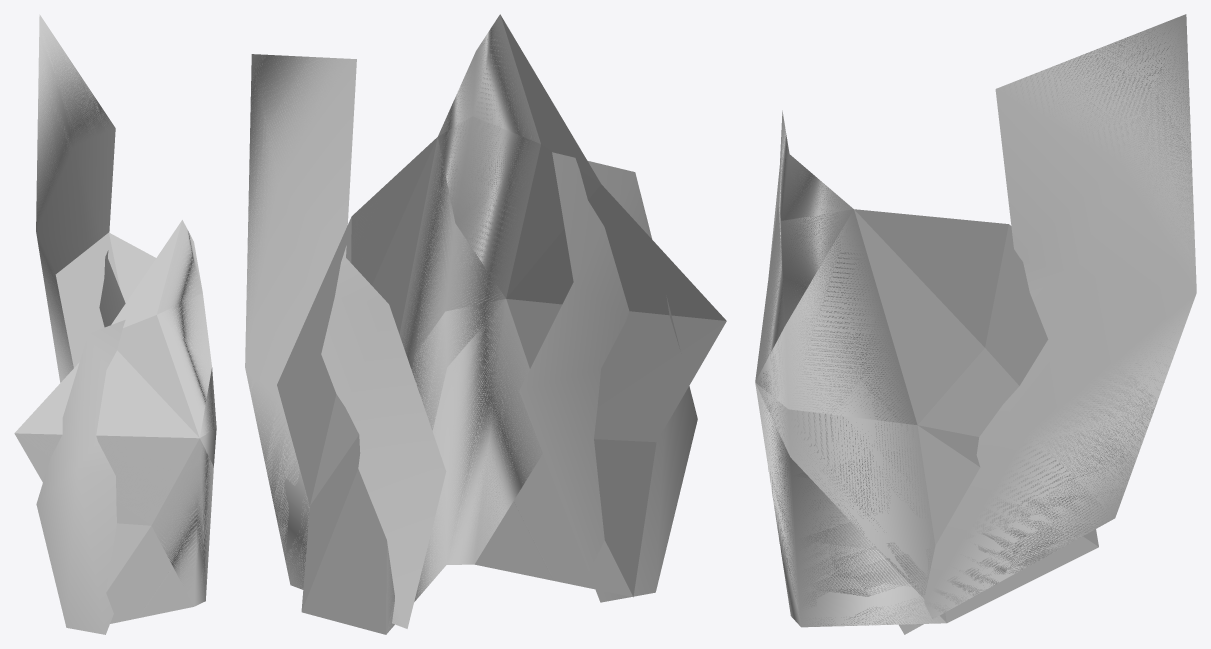
The model's file is SM_Env_Ivy_12.glb.
3 renders of one model, left to right at view 1: azimuth 30°, elevation 25°; view 2: azimuth 150°, elevation 25°; view 3: azimuth 270°, elevation 25°, orthographic. The views are drawn at different scales.
Parts seen in each view (by area): view 1: SM_Env_Ivy_12; view 2: SM_Env_Ivy_12; view 3: SM_Env_Ivy_12.
Boxes of the visible parts, box(x1,y1,x2,y2) form: SM_Env_Ivy_12: box(14, 14, 216, 634); SM_Env_Ivy_12: box(245, 14, 726, 634); SM_Env_Ivy_12: box(755, 14, 1196, 634).
Size of the model in its own units: 0.911 by 2.12 by 1.37.
Materials: 1 (1 with a texture image).
